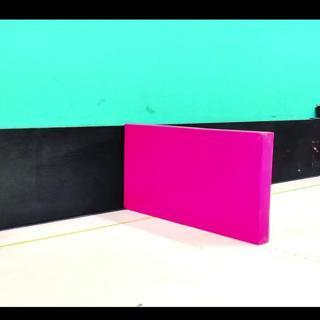xparking: (128, 141, 266, 245)
